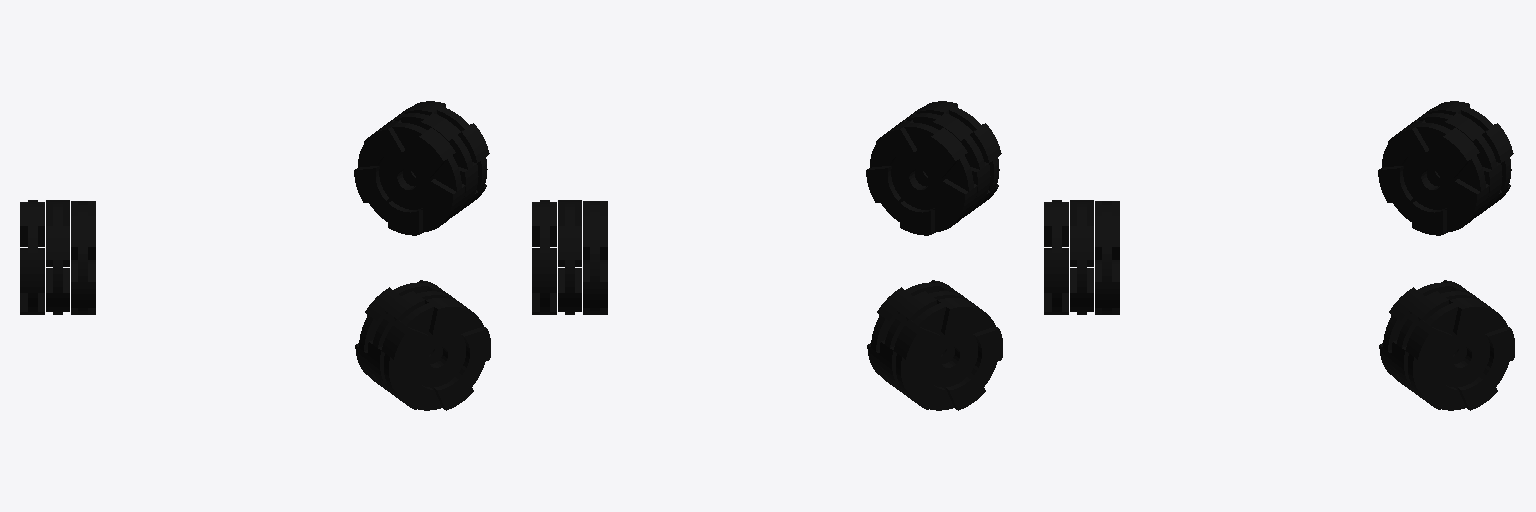
robot.urdf — Robot_Omni_Triangle:
<?xml version="1.0" encoding="utf-8"?>
<robot name="Robot_Omni_Triangle">

  <link name="base_link">
    <visual>
      <origin xyz="0 0 0" rpy="-1.570796 0 0" />
      <geometry>
        <mesh filename="meshes/base_link.stl" />
      </geometry>
      <material name="blue">
        <color rgba="0.2 0.2 0.8 1.0"/>
      </material>
    </visual>
    
    <collision>
      <origin xyz="0 0 0.05" rpy="0 0 0" />
      <geometry>
        <box size="0.4 0.4 0.1"/> 
      </geometry>
    </collision>
    
    <inertial>
      <mass value="5.0"/>
      <inertia ixx="0.1" ixy="0" ixz="0" iyy="0.1" iyz="0" izz="0.1"/>
    </inertial>
  </link>

  <link name="roue_1">
    <visual>
      <origin xyz="0 0 0" rpy="0 0 0" />
      <geometry>
        <mesh filename="meshes/roue.stl" />
      </geometry>
      <material name="black"><color rgba="0.1 0.1 0.1 1.0"/></material>
    </visual>
    <collision>
      <origin xyz="0 0 0" rpy="1.570796 0 0" />
      <geometry>
        <cylinder radius="0.03" length="0.02"/>
      </geometry>
    </collision>
    <inertial>
      <mass value="0.2"/>
      <inertia ixx="0.001" ixy="0" ixz="0" iyy="0.001" iyz="0" izz="0.001"/>
    </inertial>
  </link>

  <link name="roue_2">
    <visual>
      <origin xyz="0 0 0" rpy="0 0 0" />
      <geometry><mesh filename="meshes/roue.stl" /></geometry>
      <material name="black"/>
    </visual>
    <collision>
      <origin xyz="0 0 0" rpy="1.570796 0 0" />
      <geometry><cylinder radius="0.03" length="0.02"/></geometry>
    </collision>
    <inertial>
      <mass value="0.2"/>
      <inertia ixx="0.001" ixy="0" ixz="0" iyy="0.001" iyz="0" izz="0.001"/>
    </inertial>
  </link>

  <link name="roue_3">
    <visual>
      <origin xyz="0 0 0" rpy="0 0 0" />
      <geometry><mesh filename="meshes/roue.stl" /></geometry>
      <material name="black"/>
    </visual>
    <collision>
      <origin xyz="0 0 0" rpy="1.570796 0 0" />
      <geometry><cylinder radius="0.03" length="0.02"/></geometry>
    </collision>
    <inertial>
      <mass value="0.2"/>
      <inertia ixx="0.001" ixy="0" ixz="0" iyy="0.001" iyz="0" izz="0.001"/>
    </inertial>
  </link>


  <joint name="joint_roue_1" type="continuous">
    <parent link="base_link"/>
    <child link="roue_1"/>
    <origin xyz="0.125 0 0.035" rpy="0 0 0" />
    <axis xyz="0 1 0" />
  </joint>

  <joint name="joint_roue_2" type="continuous">
    <parent link="base_link"/>
    <child link="roue_2"/>
    <origin xyz="-0.0625 0.108 0.035" rpy="0 0 2.0944" />
    <axis xyz="0 1 0" />
  </joint>

  <joint name="joint_roue_3" type="continuous">
    <parent link="base_link"/>
    <child link="roue_3"/>
    <origin xyz="-0.0625 -0.108 0.035" rpy="0 0 -2.0944" />
    <axis xyz="0 1 0" />
  </joint>

</robot>

--- Facts derived from the render (not from the file) ---
Views: 3 orthographic renders of the robot side by side, from view 1: azimuth 30°, elevation 25°; view 2: azimuth 150°, elevation 25°; view 3: azimuth 270°, elevation 25°.
Robot: Robot_Omni_Triangle — 4 links, 3 joints (3 continuous); root link base_link; default pose: every joint at zero.
Links seen in each view (by area): view 1: roue_2, roue_1, roue_3; view 2: roue_1, roue_3, roue_2; view 3: roue_3, roue_2, roue_1.
Link boxes in pixels (x1,y1,x2,y2): roue_2: (354,101,489,235); roue_1: (355,280,490,410); roue_3: (20,200,95,314); roue_1: (866,101,1001,235); roue_3: (867,280,1002,410); roue_2: (532,200,607,314); roue_3: (1378,101,1513,235); roue_2: (1379,280,1514,410); roue_1: (1044,200,1119,314).
Size in the robot's own frame: 285 by 247 by 60.25 metres.
Meshes: 2 distinct files referenced, 3 mesh visuals loaded (1 binary STL); not drawn: 1 (reference not matched to a file when rendering).